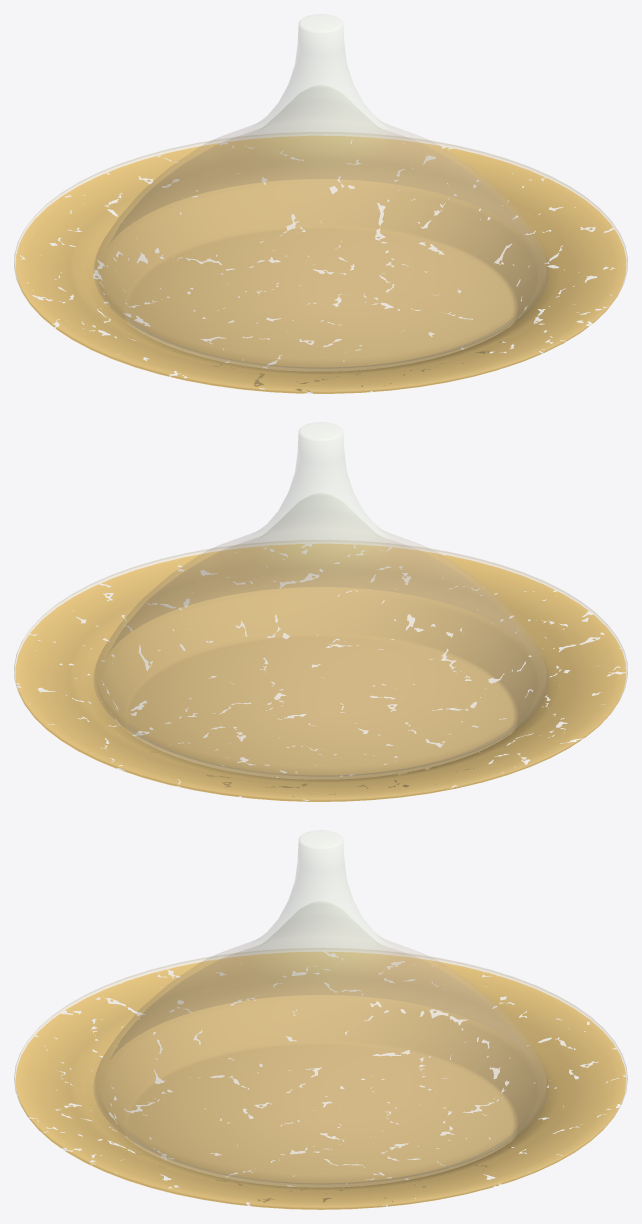
File: PearlGoldOliveCoveredGlassDish.gltf
3 views of the same model, one above another, from view 1: azimuth 30°, elevation 25°; view 2: azimuth 150°, elevation 25°; view 3: azimuth 270°, elevation 25° (orthographic).
Visible parts, largest first — view 1: glassDish, glassCover; view 2: glassDish, glassCover; view 3: glassDish, glassCover.
Boxes of the visible parts, box(x1,y1,x2,y2) form: glassDish: box(14, 132, 627, 393); glassCover: box(93, 14, 548, 368); glassDish: box(14, 540, 627, 801); glassCover: box(93, 422, 548, 776); glassDish: box(14, 948, 627, 1209); glassCover: box(93, 830, 548, 1184).
Bounding box in the file's own units: 0.4594 × 0.2376 × 0.4594.
Materials: 3 (2 with a texture image).
